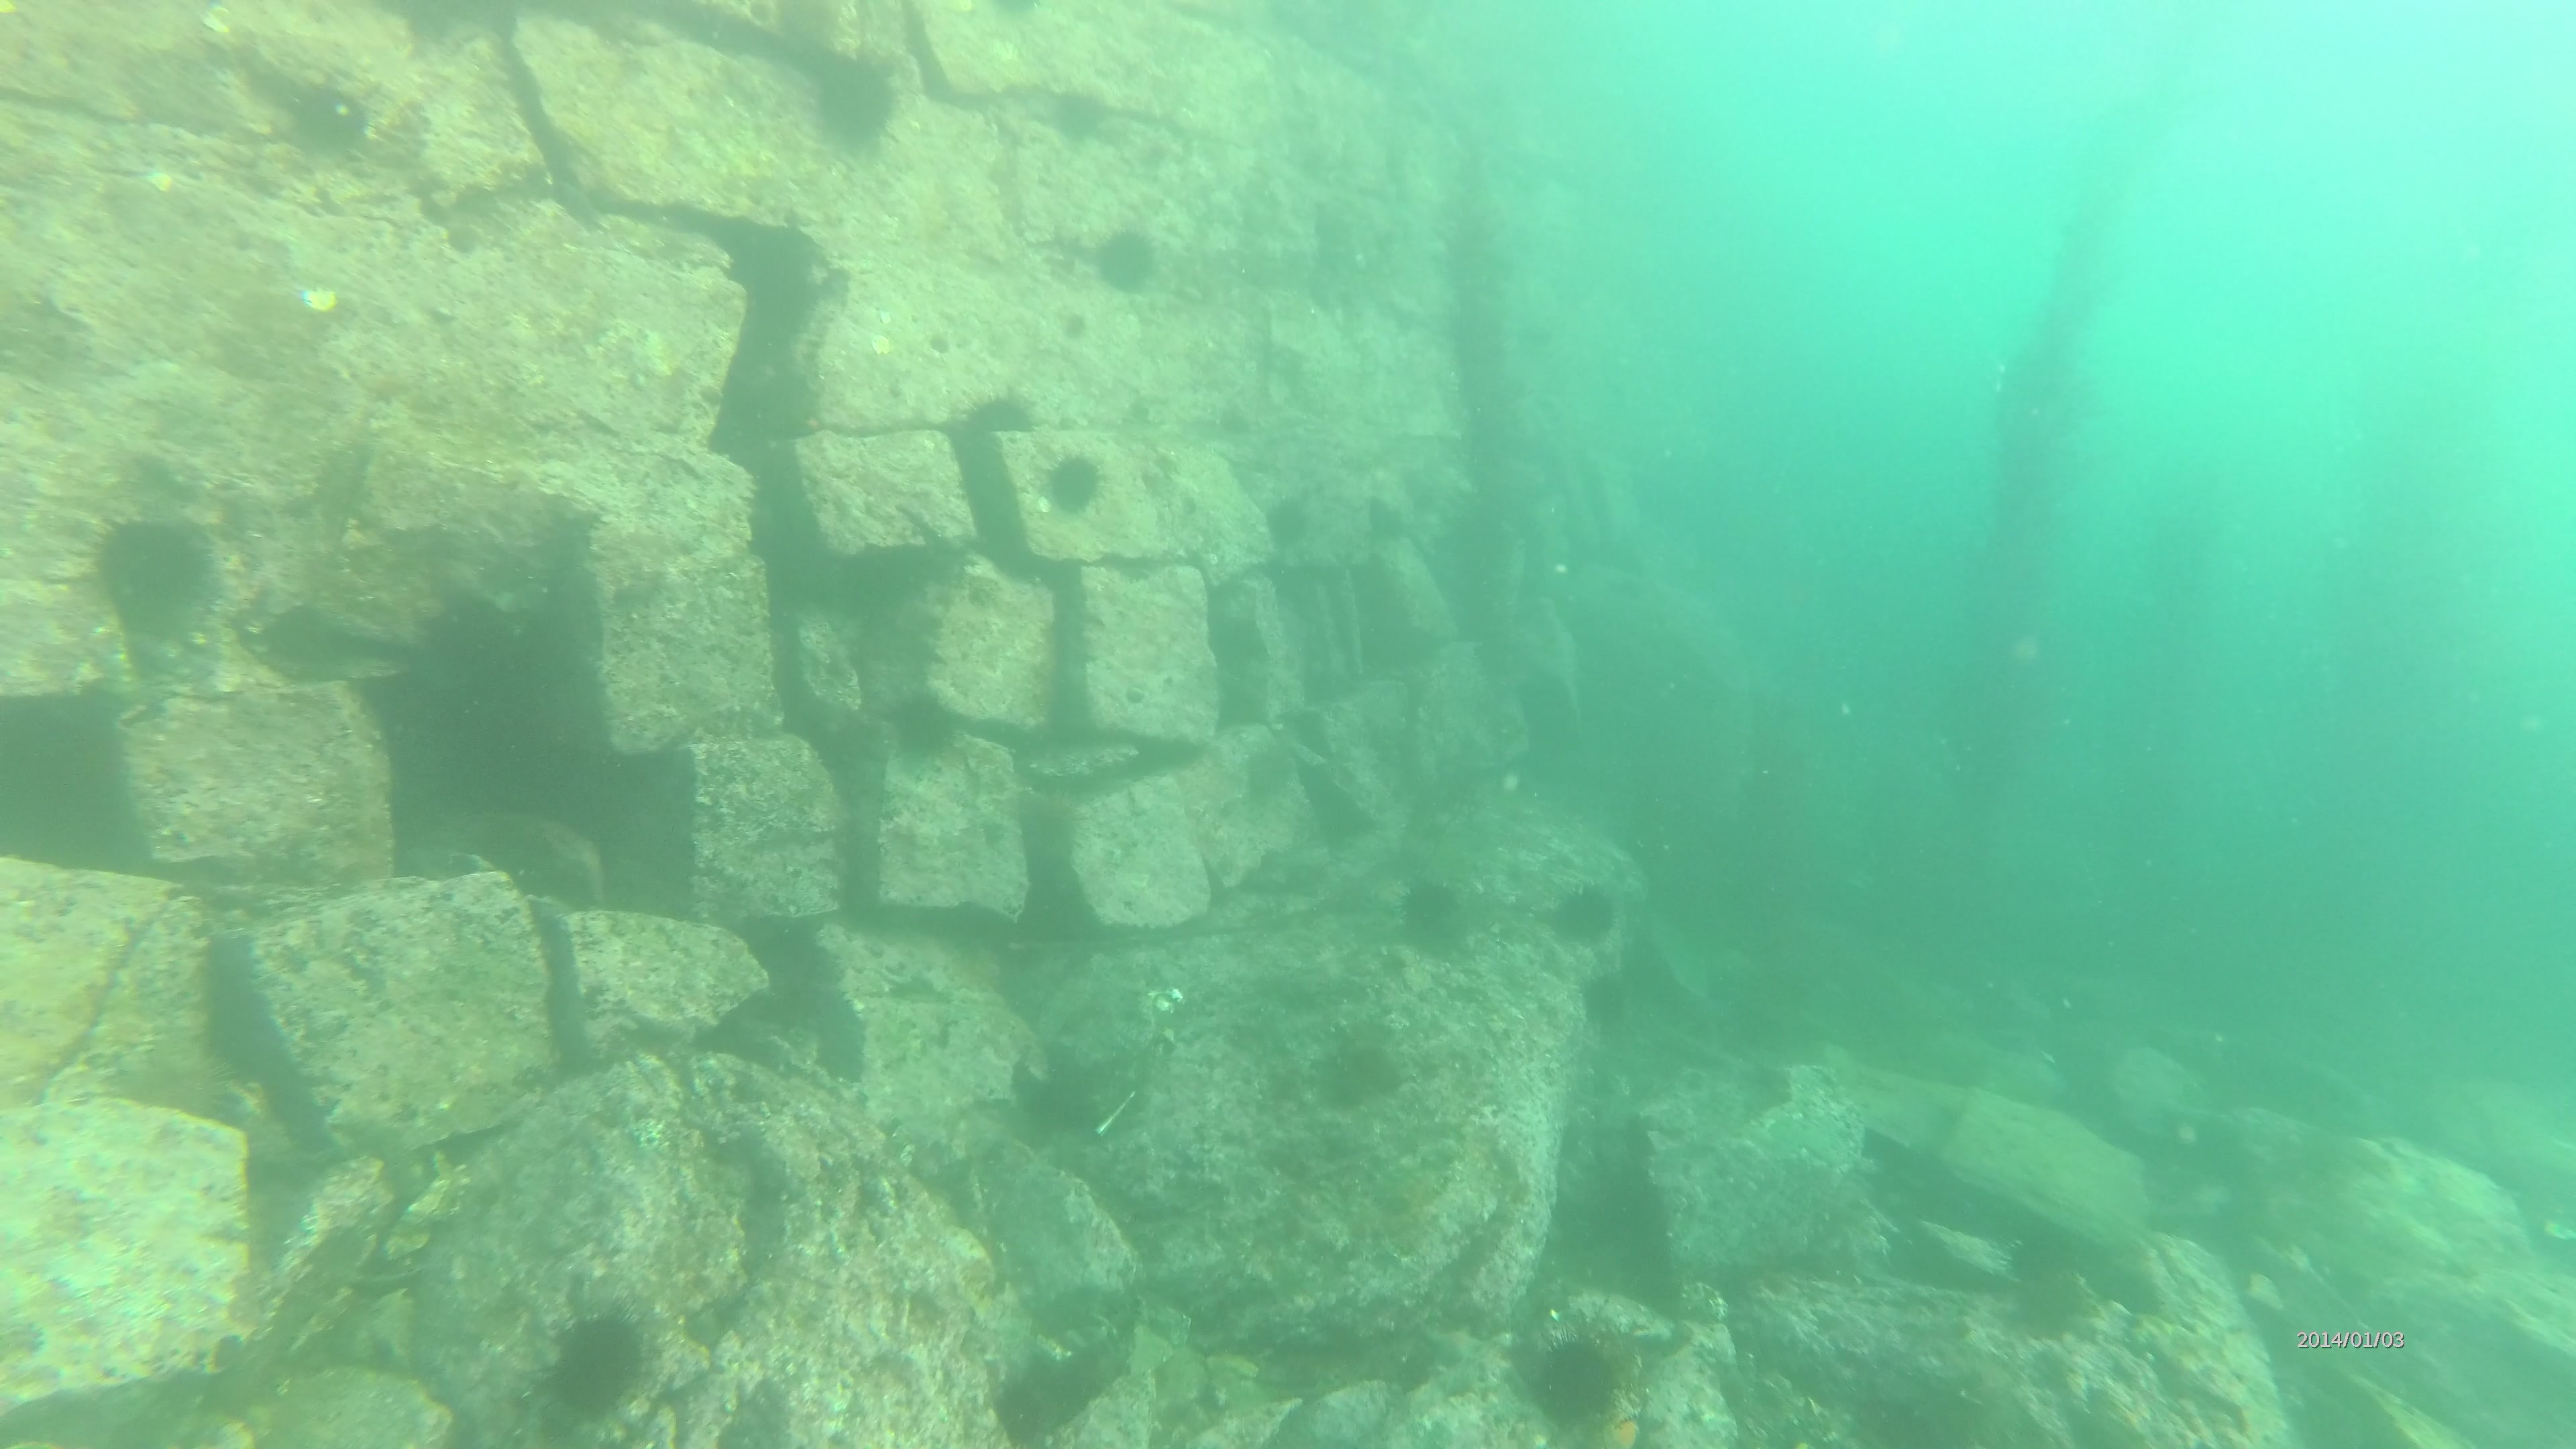echinus: (85, 511, 219, 644), (534, 1307, 656, 1430), (1523, 1327, 1635, 1438), (809, 48, 902, 142), (1304, 1033, 1403, 1122), (883, 690, 968, 777), (280, 80, 373, 152), (1398, 869, 1470, 950), (1040, 81, 1115, 159), (1552, 874, 1624, 952), (1039, 451, 1108, 525), (1093, 219, 1162, 292), (1355, 479, 1417, 559), (1235, 736, 1304, 805), (1253, 487, 1322, 552)
